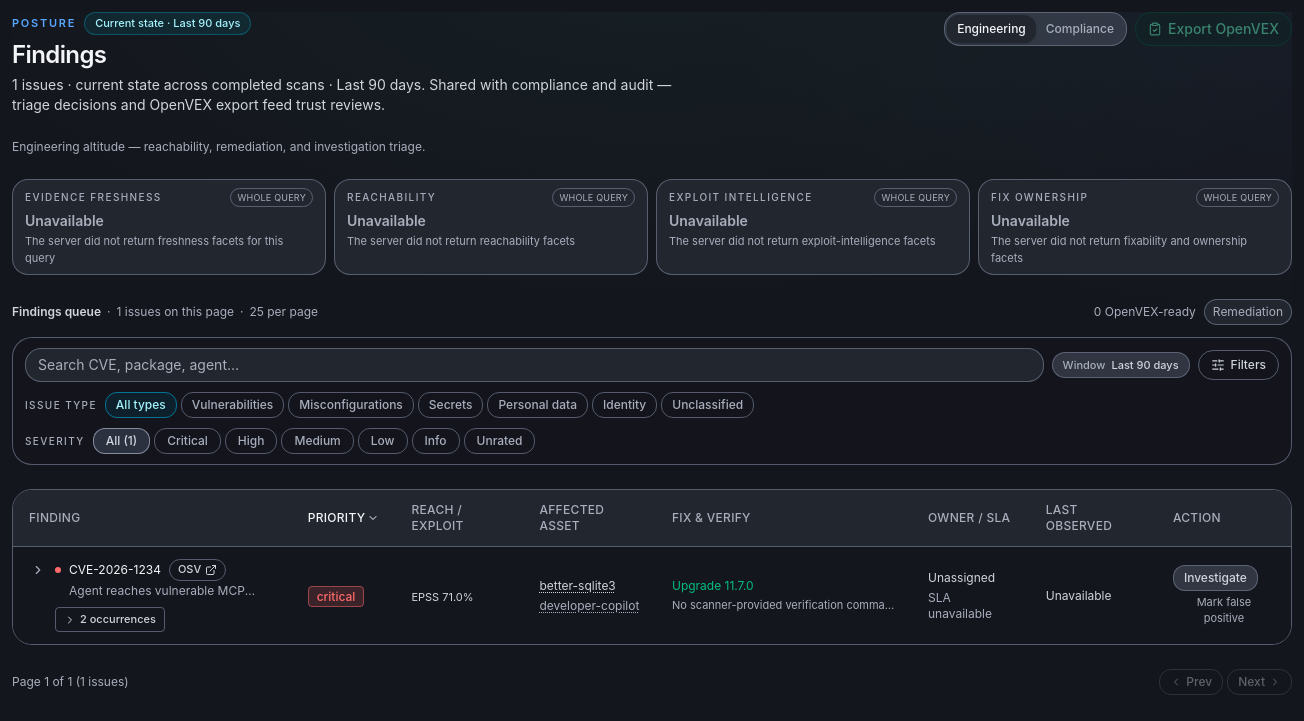
it: FindingsPage › uses the server-backed issue view and expands preserved asset occurrences
Check: the text "1 issues · current state" is shown, box [12,76,671,112]
Check: the text "api-image" is not shown
What coordinates should you click on to do the following:
click the button with aria-label "Show 2 affected asset occurrences"
I would click on:
 (110, 620)
Its box is [55,607,165,632].
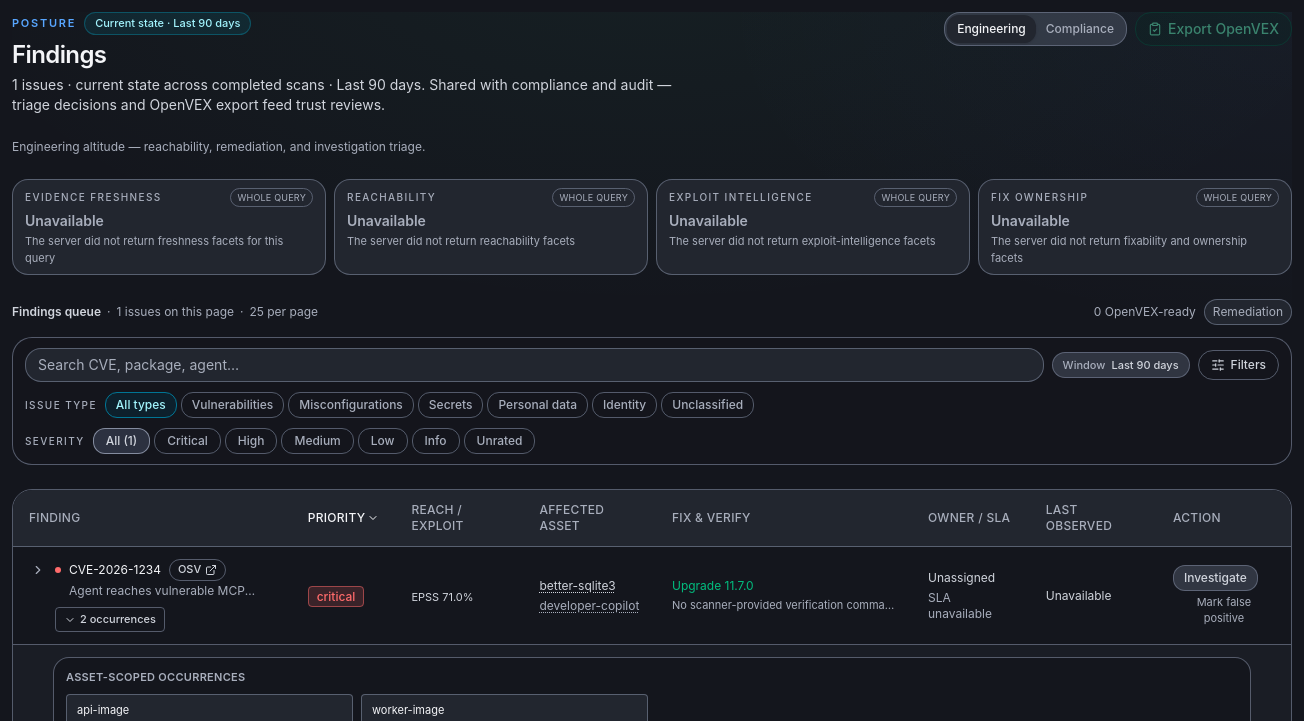
Check: the text "api-image" is shown, box [77,703,129,717]
Check: the text "worker-image" is shown, box [372,703,444,717]
